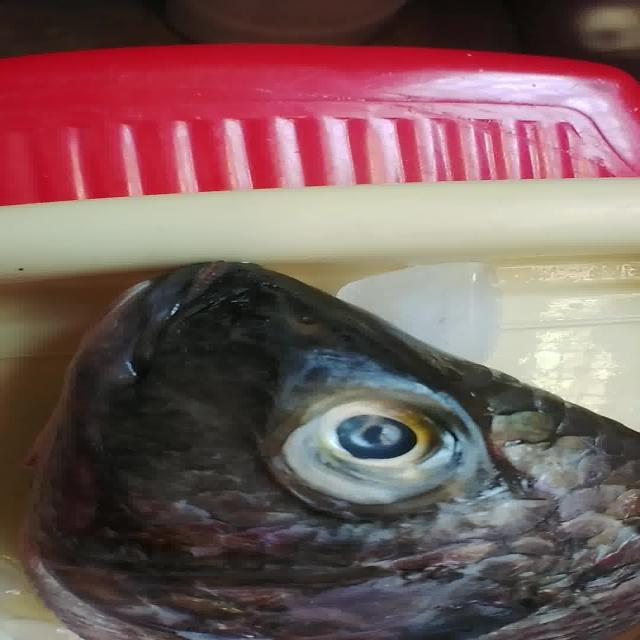Fresh: (261, 369, 527, 518)
